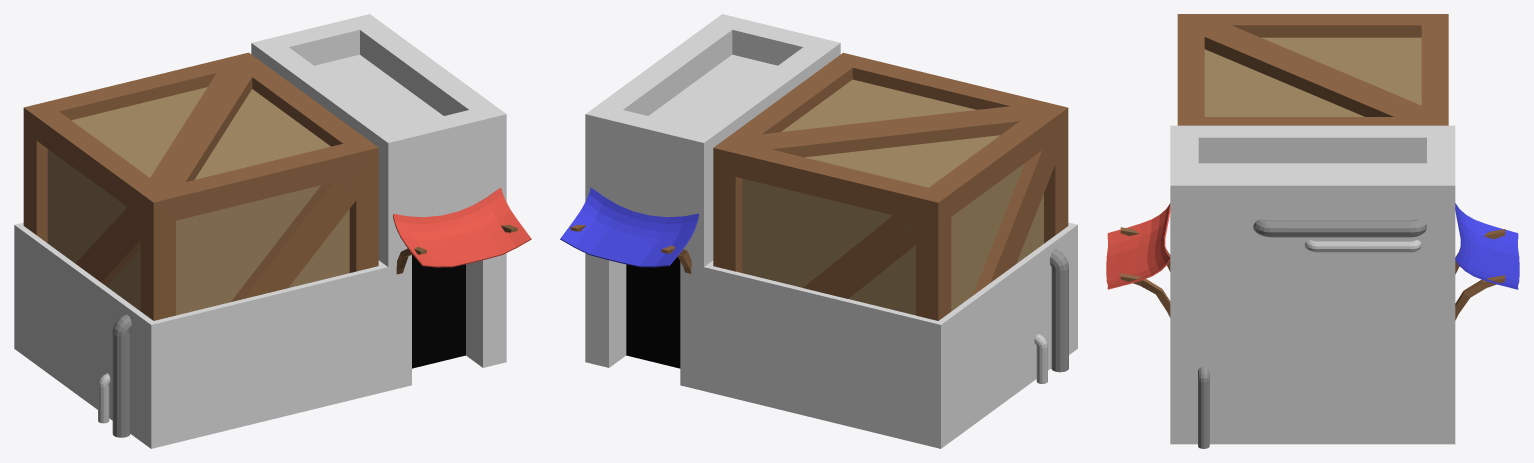
Rendered from Building2.fbx.
3 renders of one model, left to right at view 1: azimuth 30°, elevation 25°; view 2: azimuth 150°, elevation 25°; view 3: azimuth 270°, elevation 25°, orthographic. The views are drawn at different scales.
Visible parts, largest first — view 1: Main2, Storage2, Awning2.001, Pipes2.001; view 2: Main2, Storage2, Awning2.000, Pipes2.001; view 3: Main2, Storage2, Pipes2.000, Awning2.000, Awning2.001.
Part boxes in pixels (left/top/right/bottom): Main2: left=14, top=14, right=506, bottom=448; Storage2: left=23, top=52, right=378, bottom=320; Awning2.001: left=393, top=187, right=531, bottom=274; Pipes2.001: left=98, top=314, right=131, bottom=437; Main2: left=585, top=14, right=1077, bottom=448; Storage2: left=713, top=52, right=1068, bottom=320; Awning2.000: left=560, top=187, right=698, bottom=273; Pipes2.001: left=1034, top=248, right=1068, bottom=383; Main2: left=1170, top=125, right=1455, bottom=444; Storage2: left=1177, top=14, right=1448, bottom=125; Pipes2.000: left=1198, top=219, right=1427, bottom=448; Awning2.000: left=1455, top=203, right=1519, bottom=320; Awning2.001: left=1106, top=203, right=1170, bottom=317.
Bounding box in the file's own units: 321 × 201 × 290.
